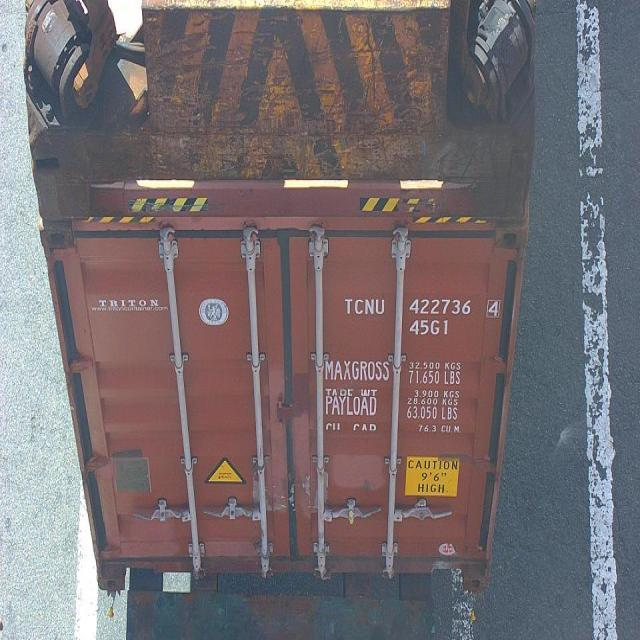ISO: (411, 318, 448, 338)
container_number: (342, 292, 503, 318)
